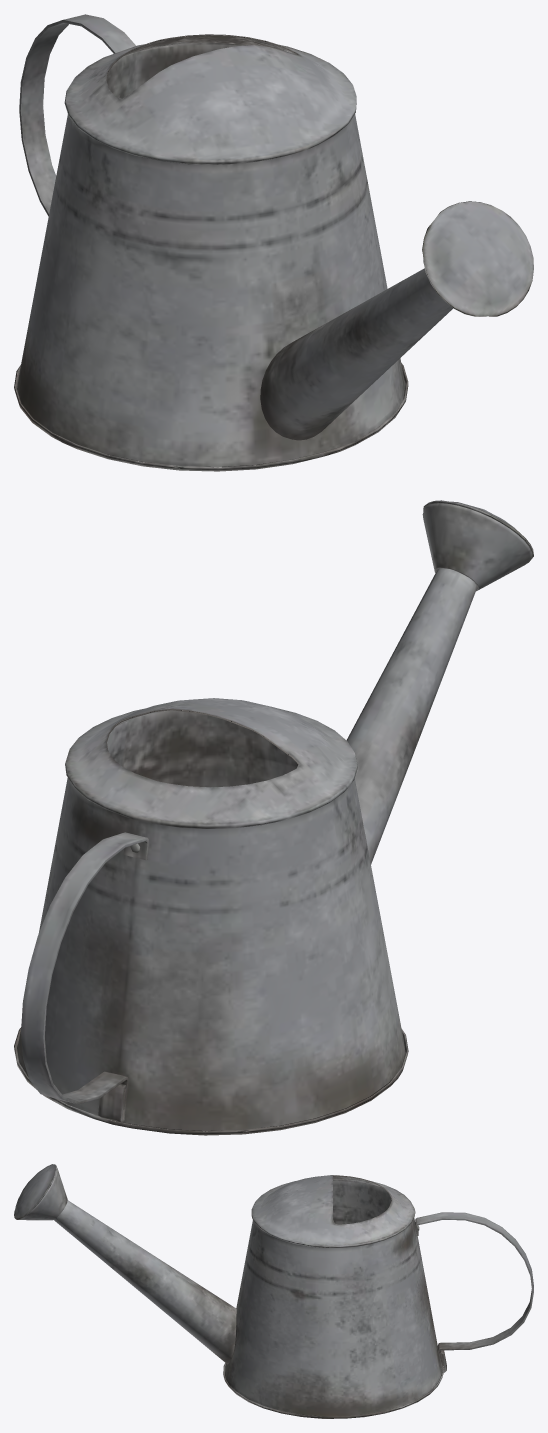
Rendered from watering_can_metal_01.glb.
3 renders of one model, top to bottom at view 1: azimuth 30°, elevation 25°; view 2: azimuth 150°, elevation 25°; view 3: azimuth 270°, elevation 25°, orthographic. The views are drawn at different scales.
Parts seen in each view (by area): view 1: watering_can_metal_01; view 2: watering_can_metal_01; view 3: watering_can_metal_01.
Part boxes in pixels (<box>): watering_can_metal_01: <box>14,14,533,471</box>; watering_can_metal_01: <box>14,500,533,1135</box>; watering_can_metal_01: <box>14,1164,533,1418</box>.
Size of the model in its own units: 0.191 by 0.1965 by 0.4521.
1 material, 1 textured.
